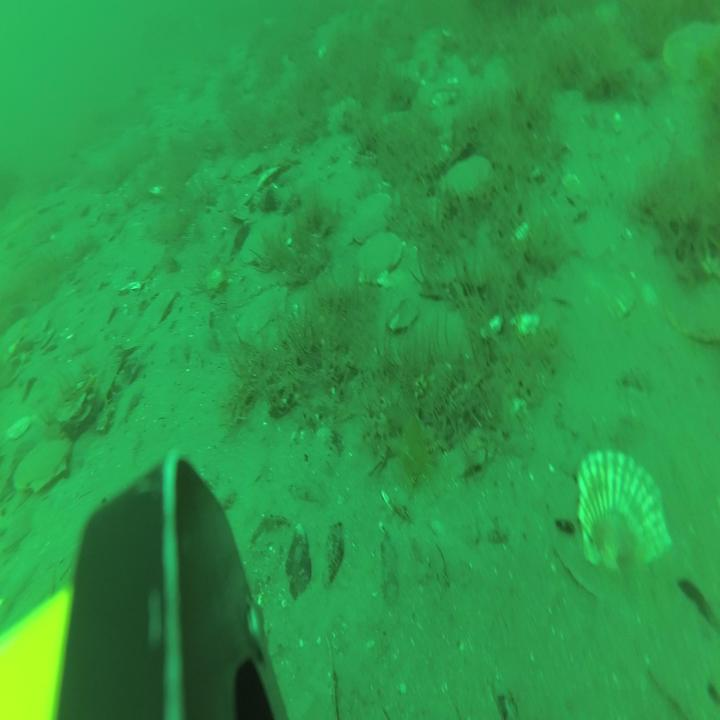scallop: (572, 446, 674, 583), (570, 257, 638, 325), (661, 15, 720, 88), (238, 210, 301, 273), (12, 433, 73, 496), (434, 150, 497, 209), (235, 281, 293, 345), (356, 229, 405, 292), (349, 189, 396, 244), (230, 148, 265, 186)
